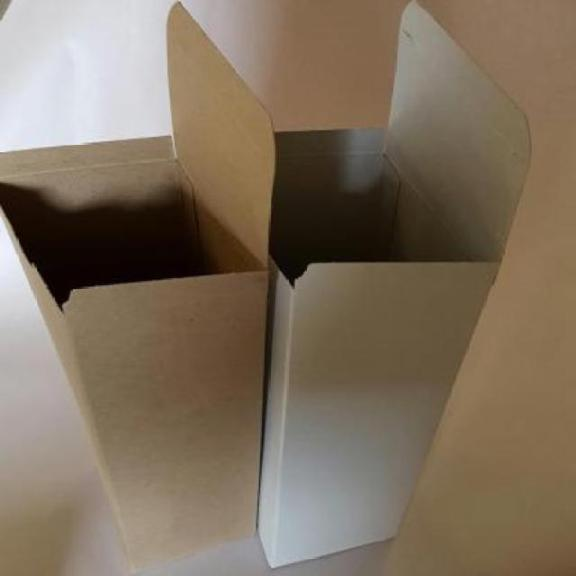Kertas: (0, 3, 274, 570), (259, 0, 531, 566)
